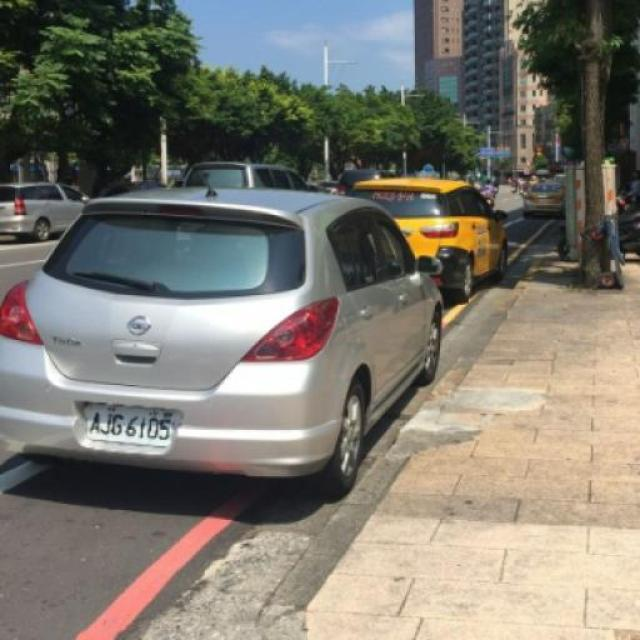Legalparking: (0, 189, 515, 485), (0, 169, 94, 246), (509, 179, 578, 221)
